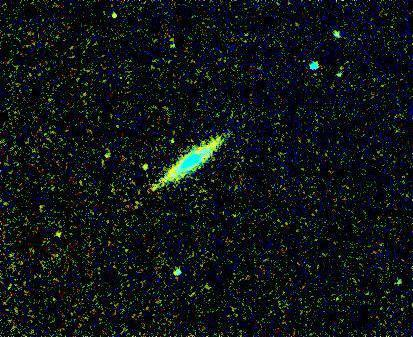star: (40, 220, 70, 250)
